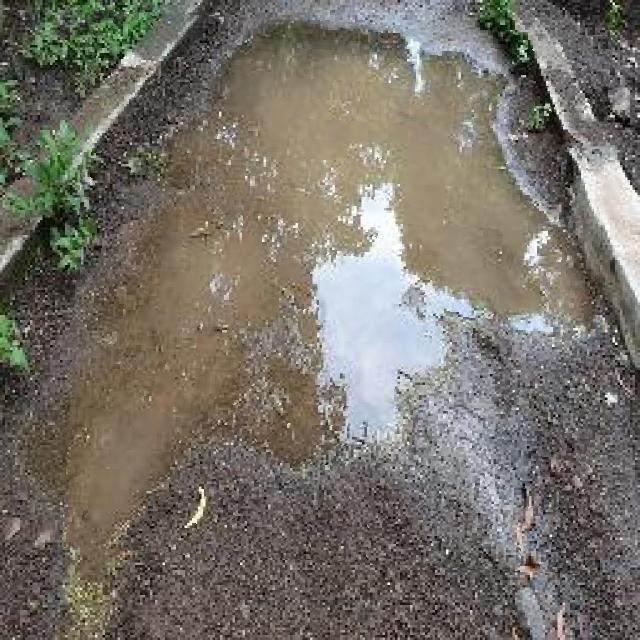puddle: (70, 17, 605, 569)
